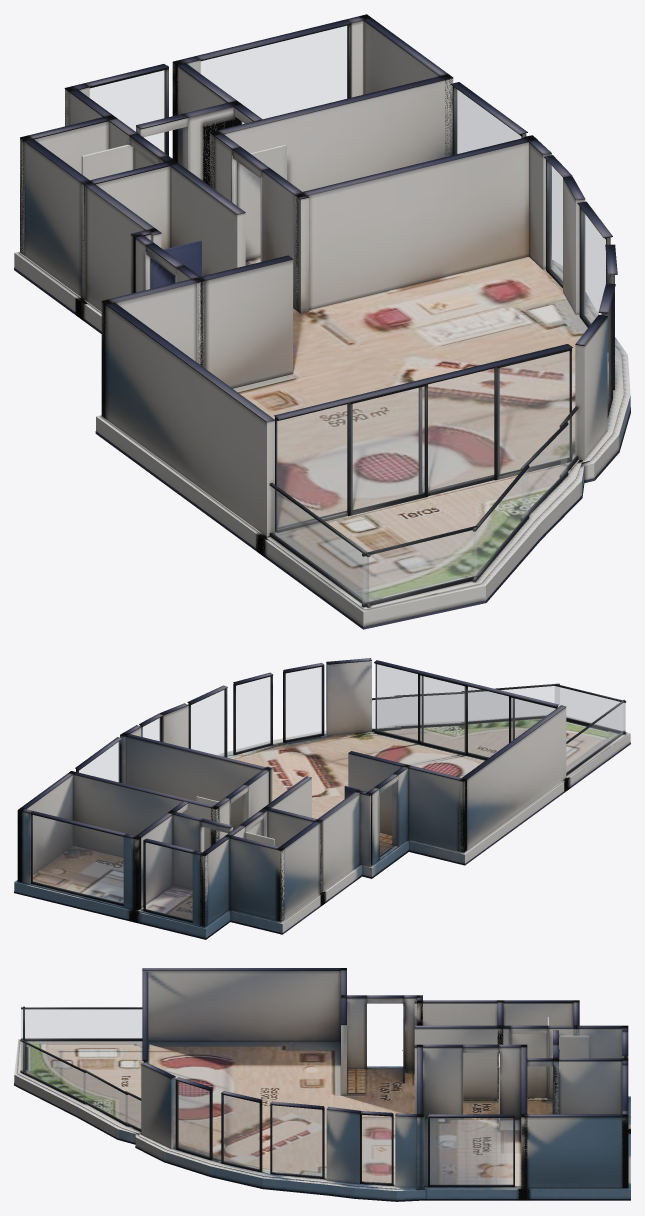
3 renders of one model, top to bottom at view 1: azimuth 30°, elevation 25°; view 2: azimuth 150°, elevation 25°; view 3: azimuth 270°, elevation 25°, orthographic. The views are drawn at different scales.
Parts seen in each view (by area): view 1: plan, glass3_m, glass0_m, railg3_m, railg4_m, glass1_m, railg1_m, glass2_m, glass5_m, railg2_m, glass4_m; view 2: plan, glass3_m, glass0_m, glass1_m, glass7_m, glass6_m, railg1_m, glass5_m, railg3_m, railg4_m, railg2_m, glass2_m (+1 smaller); view 3: plan, glass2_m, railg4_m, glass5_m, glass6_m, glass7_m, glass4_m, railg1_m, railg2_m, railg0_m.
Boxes of the visible parts, bbox=[...] form: plan: bbox=[14, 14, 630, 629]; glass3_m: bbox=[276, 351, 569, 528]; glass0_m: bbox=[201, 26, 347, 123]; railg3_m: bbox=[362, 530, 476, 603]; railg4_m: bbox=[271, 487, 368, 603]; glass1_m: bbox=[90, 70, 165, 152]; railg1_m: bbox=[474, 470, 527, 578]; glass2_m: bbox=[456, 89, 520, 153]; glass5_m: bbox=[582, 211, 605, 324]; railg2_m: bbox=[522, 427, 566, 516]; glass4_m: bbox=[549, 163, 562, 283]; plan: bbox=[14, 658, 630, 939]; glass3_m: bbox=[375, 664, 554, 757]; glass0_m: bbox=[32, 815, 123, 903]; glass1_m: bbox=[145, 843, 192, 920]; glass7_m: bbox=[286, 667, 321, 740]; glass6_m: bbox=[236, 677, 270, 752]; railg1_m: bbox=[468, 686, 559, 721]; glass5_m: bbox=[191, 690, 224, 756]; railg3_m: bbox=[555, 686, 625, 731]; railg4_m: bbox=[566, 703, 624, 772]; railg2_m: bbox=[401, 694, 463, 725]; glass2_m: bbox=[79, 741, 119, 782]; plan: bbox=[14, 968, 630, 1201]; glass2_m: bbox=[430, 1118, 512, 1184]; railg4_m: bbox=[21, 1009, 141, 1038]; glass5_m: bbox=[272, 1105, 321, 1176]; glass6_m: bbox=[223, 1095, 259, 1169]; glass7_m: bbox=[178, 1081, 209, 1157]; glass4_m: bbox=[362, 1115, 391, 1183]; railg1_m: bbox=[21, 1042, 85, 1101]; railg2_m: bbox=[84, 1073, 127, 1123]; railg0_m: bbox=[126, 1095, 140, 1129].
Bounding box in the file's own units: 10.39 × 2.62 × 17.78.
Materials: 2 (1 with a texture image).
